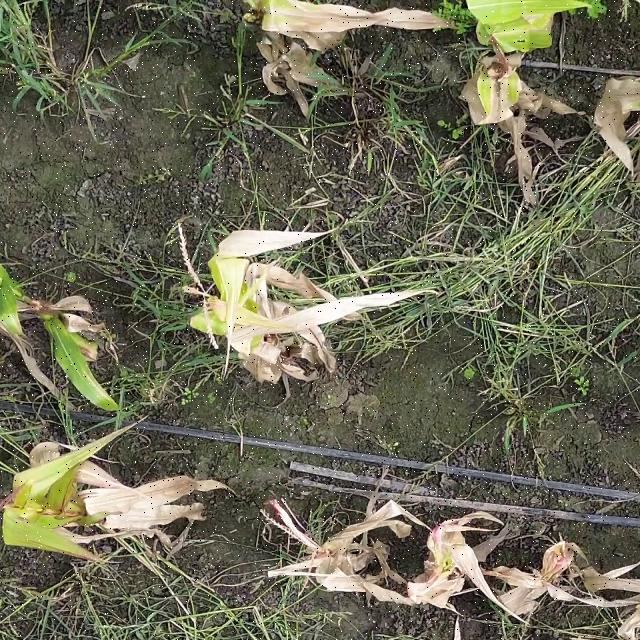gray-leaf-spot: (59, 340, 94, 377)
